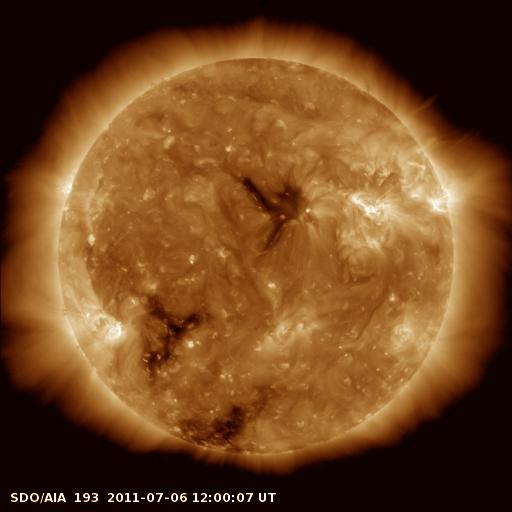coronal_hole: (142, 291, 205, 380), (176, 394, 264, 454), (241, 177, 311, 250)
